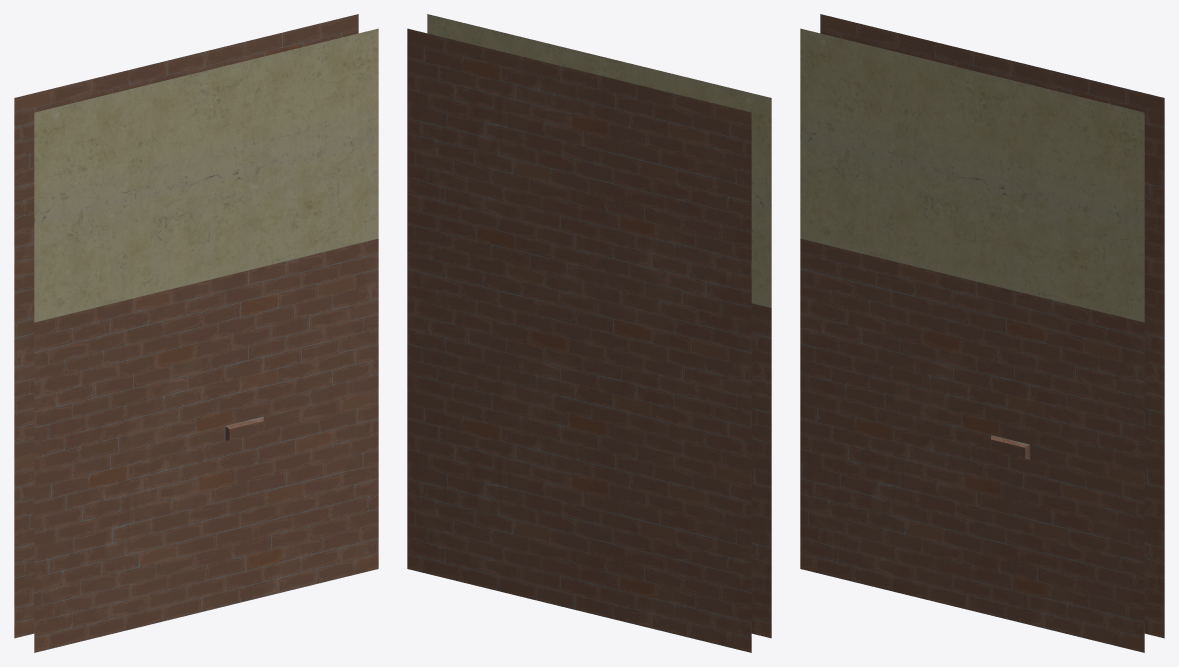
The model's file is Brick_HalfTrim.gltf.
3 renders of one model, left to right at view 1: azimuth 30°, elevation 25°; view 2: azimuth 150°, elevation 25°; view 3: azimuth 330°, elevation 25°, orthographic.
Visible parts, largest first — view 1: Brick_HalfTrim; view 2: Brick_HalfTrim; view 3: Brick_HalfTrim.
Part boxes in pixels (left/top/right/bottom): Brick_HalfTrim: left=14, top=14, right=378, bottom=652; Brick_HalfTrim: left=407, top=14, right=771, bottom=652; Brick_HalfTrim: left=800, top=14, right=1164, bottom=652.
Size of the model in its own units: 2 by 3 by 0.2247.
3 materials, 3 textured.
